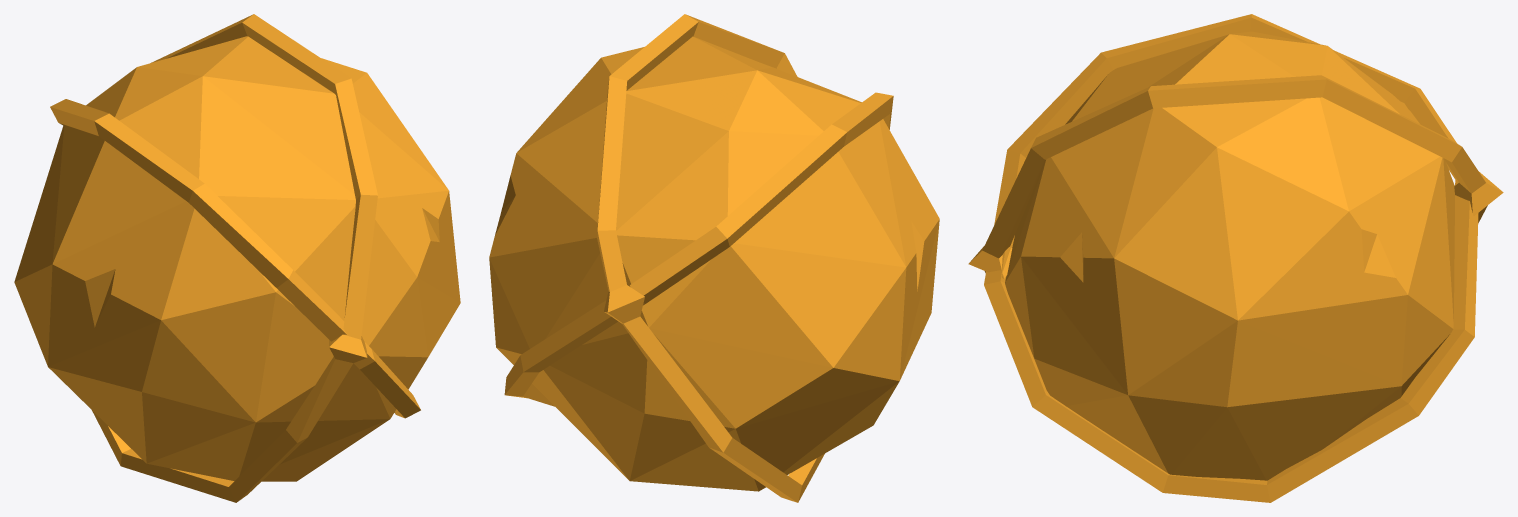
The model's file is SM_Catapult_Ammo_Ball_Rope.fbx.
3 views of the same model, side by side, from view 1: azimuth 30°, elevation 25°; view 2: azimuth 150°, elevation 25°; view 3: azimuth 270°, elevation 25° (orthographic). The views are drawn at different scales.
Visible parts, largest first — view 1: catapult-ammo-ball-rope; view 2: catapult-ammo-ball-rope; view 3: catapult-ammo-ball-rope.
Boxes of the visible parts, x1,y1,x2,y2 form: catapult-ammo-ball-rope: (14,14,460,502); catapult-ammo-ball-rope: (489,14,939,502); catapult-ammo-ball-rope: (968,14,1503,502).
Bounding box in the file's own units: 0.4589 × 0.4553 × 0.5297.
